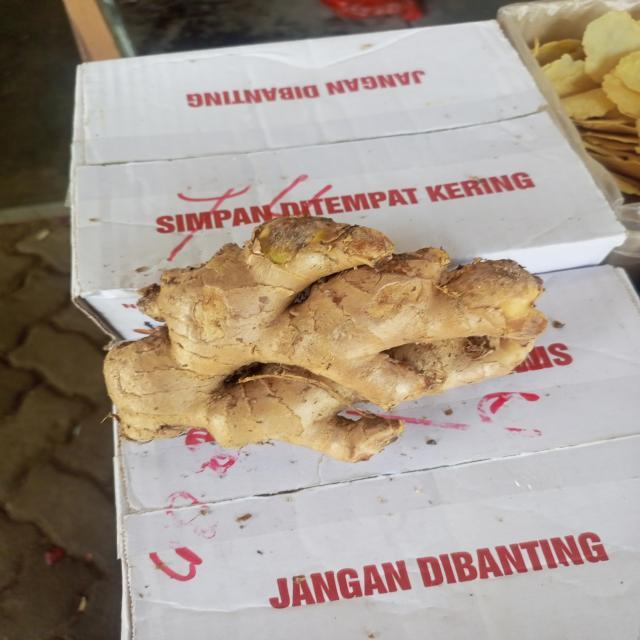ginger: (107, 217, 542, 448)
